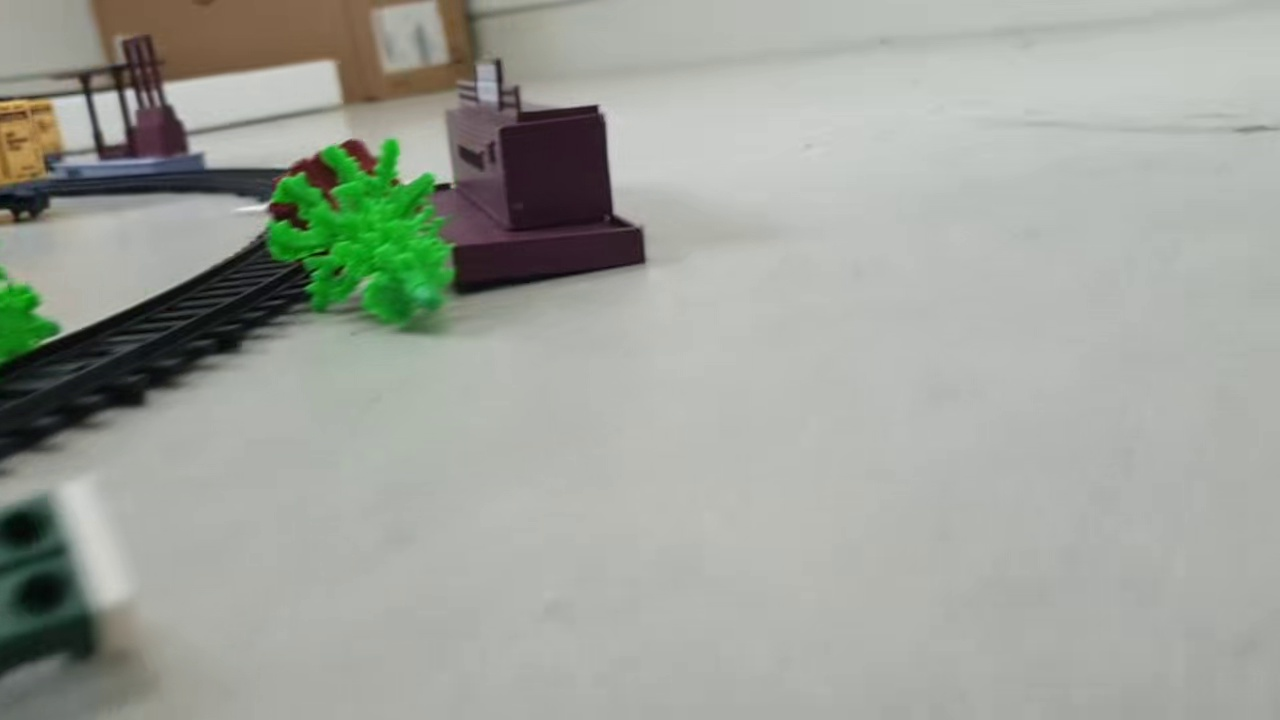people: (1, 466, 144, 688)
tree: (266, 135, 461, 334), (1, 252, 63, 369)
